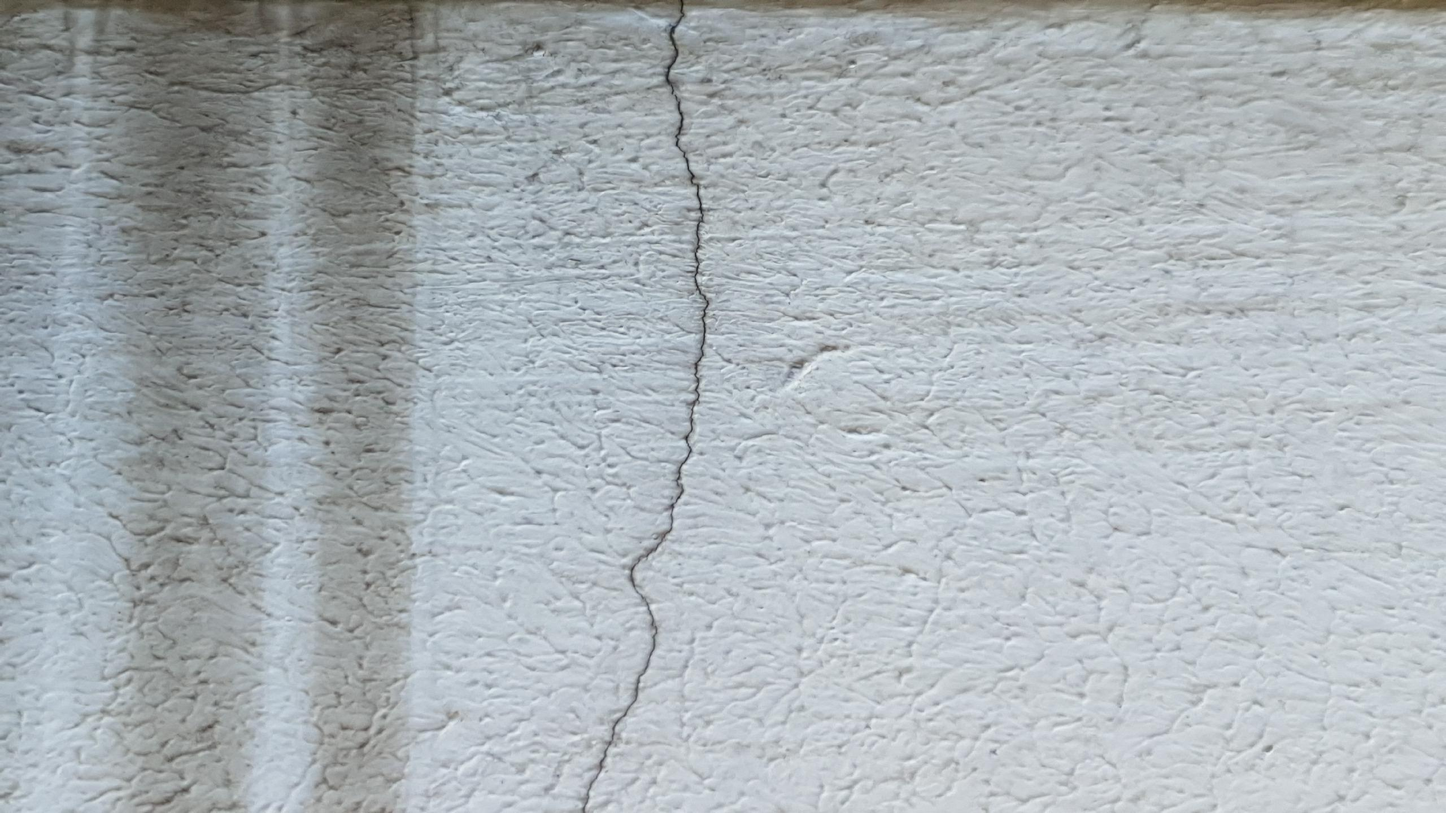crack: (579, 6, 721, 812)
